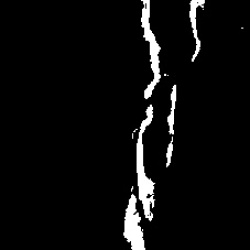crack: (136, 106, 156, 223), (140, 1, 161, 101), (122, 187, 144, 247), (190, 1, 206, 62), (167, 85, 177, 166)
